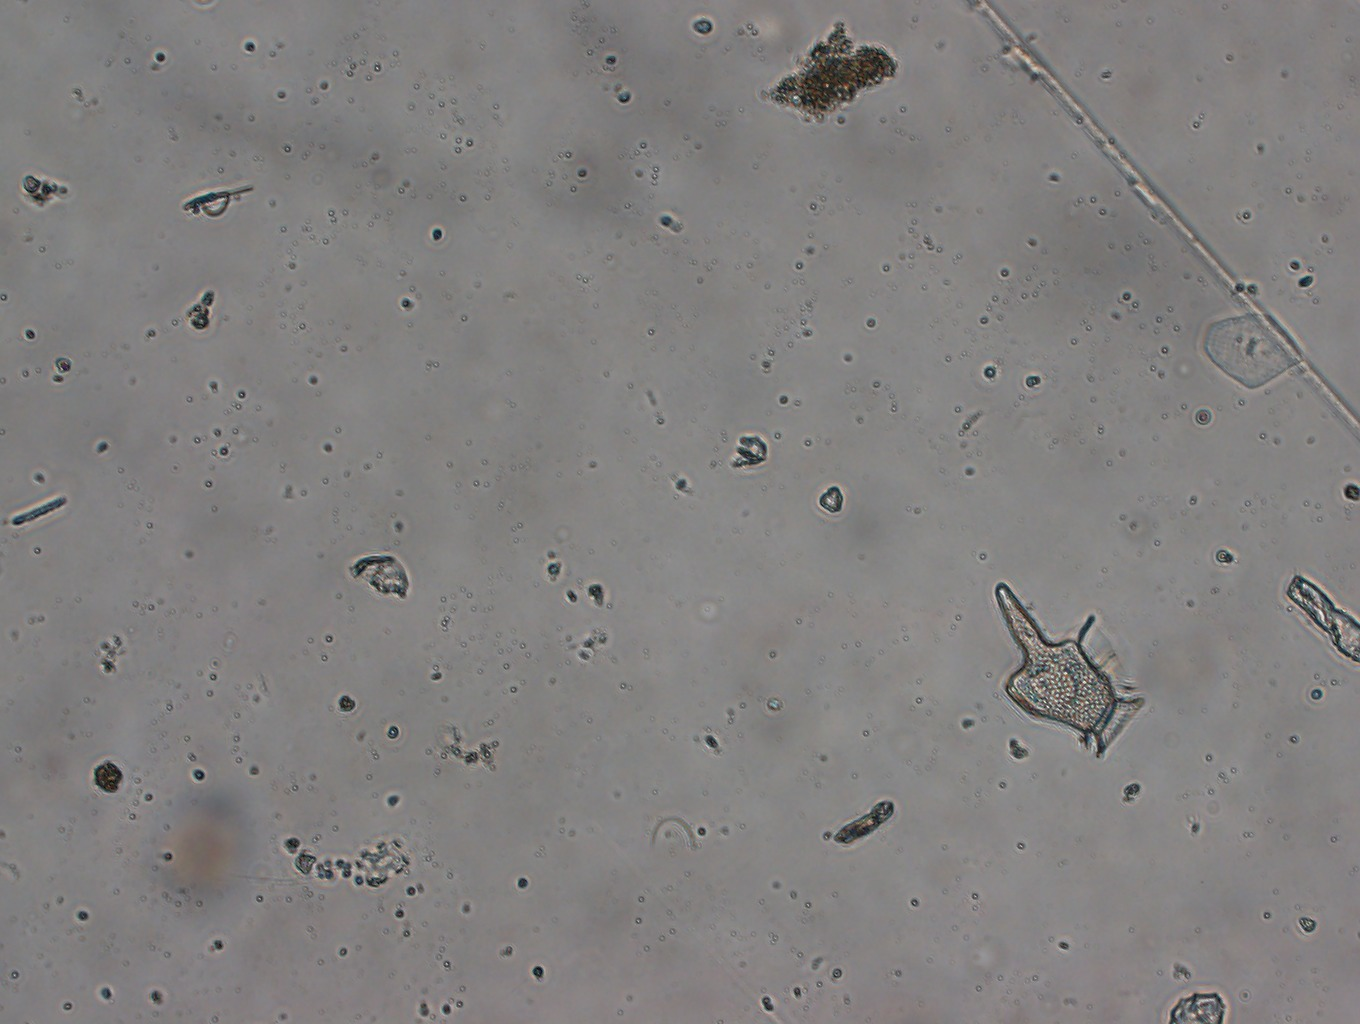dinophysis caudata: (991, 580, 1147, 756)
